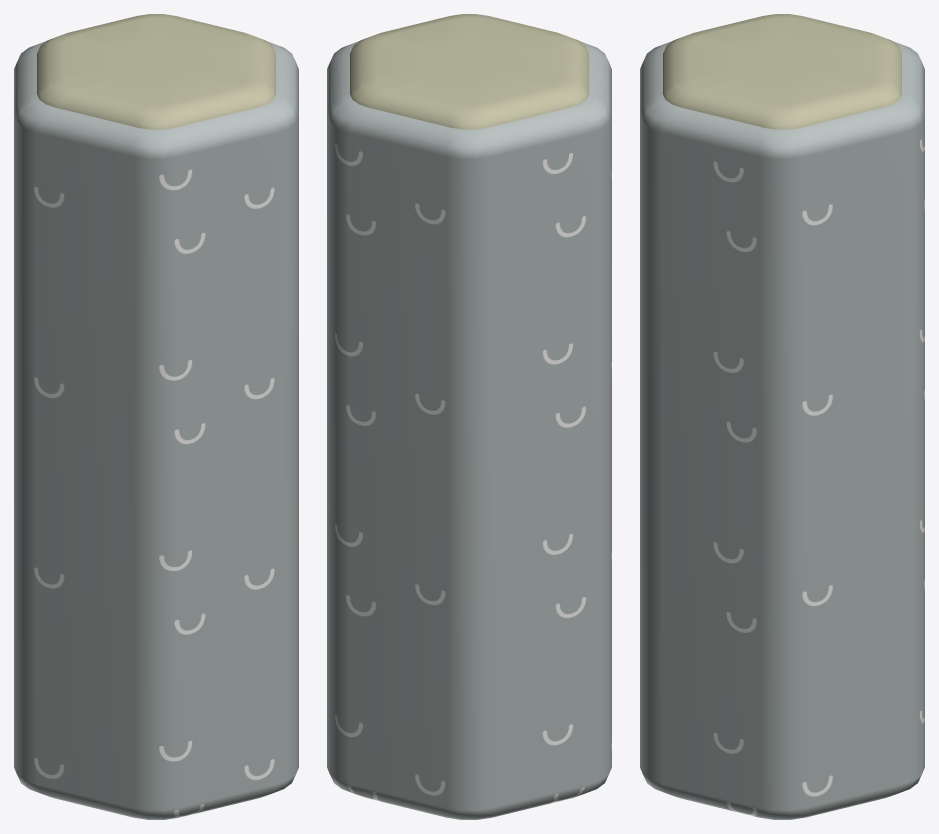
Rendered from RockEsagonSand.fbx.
The picture shows the model from 3 angles, left to right: view 1: azimuth 30°, elevation 25°; view 2: azimuth 150°, elevation 25°; view 3: azimuth 270°, elevation 25°; orthographic projection.
Parts seen in each view (by area): view 1: pCylinder1, pCylinder3; view 2: pCylinder1, pCylinder3; view 3: pCylinder1, pCylinder3.
Part boxes in pixels (x1=…): pCylinder1: x1=14, y1=41, x2=298, y2=819; pCylinder3: x1=37, y1=14, x2=275, y2=129; pCylinder1: x1=327, y1=41, x2=611, y2=819; pCylinder3: x1=350, y1=14, x2=588, y2=129; pCylinder1: x1=640, y1=41, x2=924, y2=819; pCylinder3: x1=663, y1=14, x2=901, y2=129.
Bounding box in the file's own units: 2.66 × 6.58 × 2.42.
